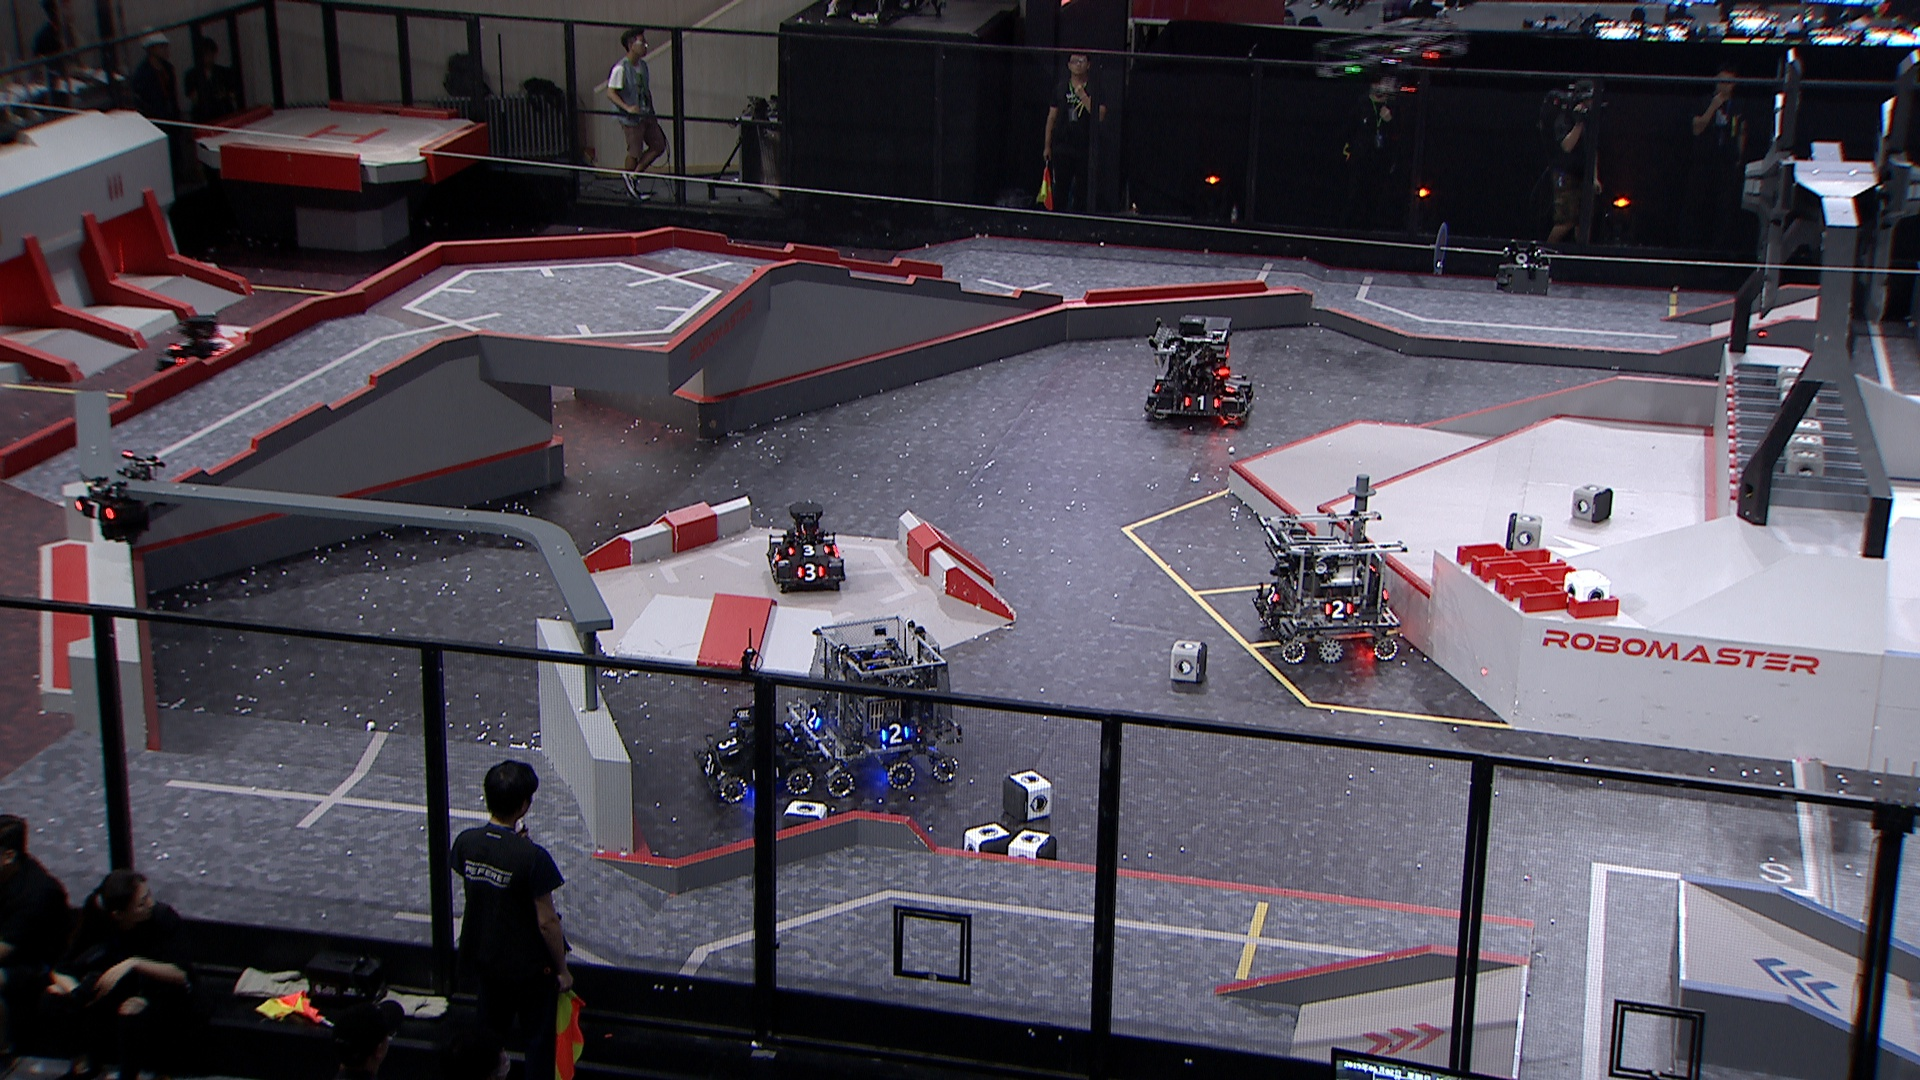armor: (71, 498, 117, 524), (713, 732, 742, 760), (1182, 392, 1221, 411), (785, 543, 833, 559), (880, 721, 911, 745), (1323, 599, 1354, 621), (793, 560, 825, 582), (698, 750, 717, 778), (804, 704, 823, 732), (1263, 584, 1282, 608), (1218, 378, 1242, 396), (766, 546, 782, 564), (1240, 386, 1253, 406)
car: (783, 616, 960, 799), (1247, 512, 1408, 665), (1139, 313, 1255, 429), (690, 703, 814, 802), (765, 498, 847, 593), (150, 313, 243, 382)
watcher: (67, 446, 166, 543)
